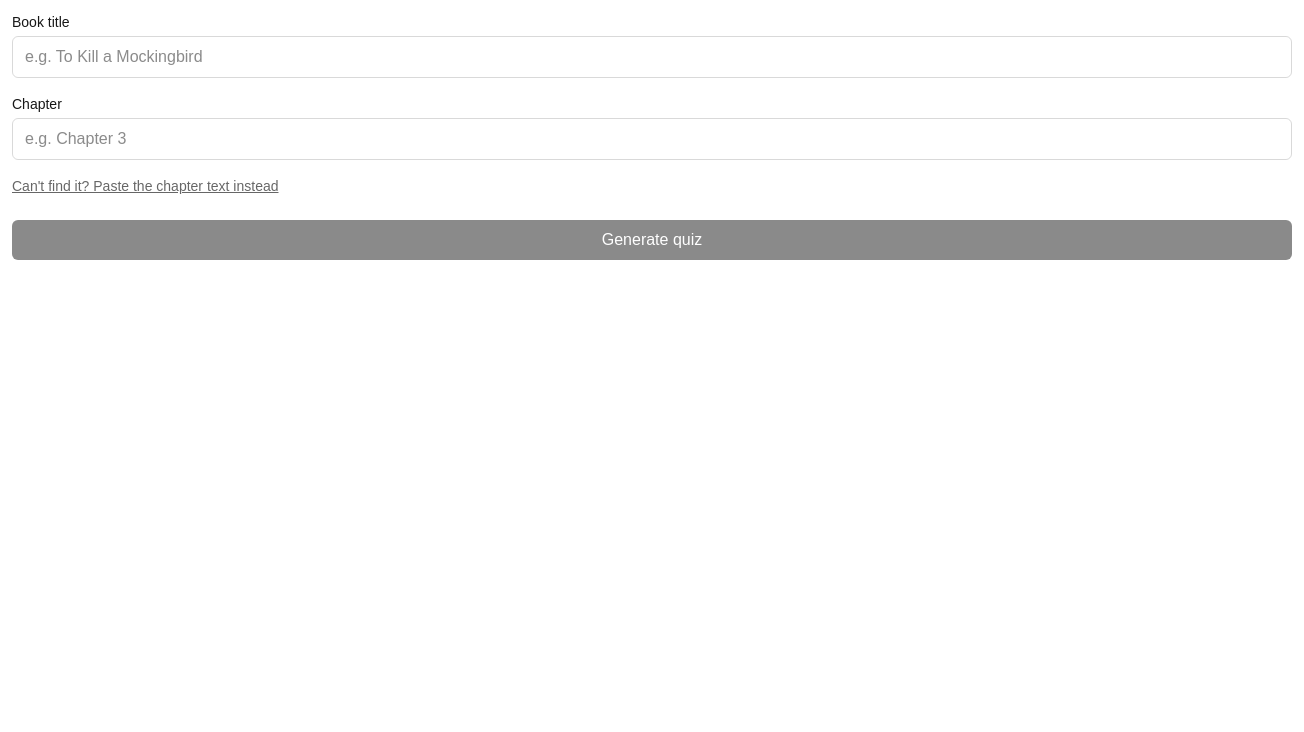
Test: QuizForm › hides the paste-text textarea until toggled
Click the button "Can't find it? Paste the chapter text instead" at (145, 186), box left=12, top=176, right=278, bottom=196
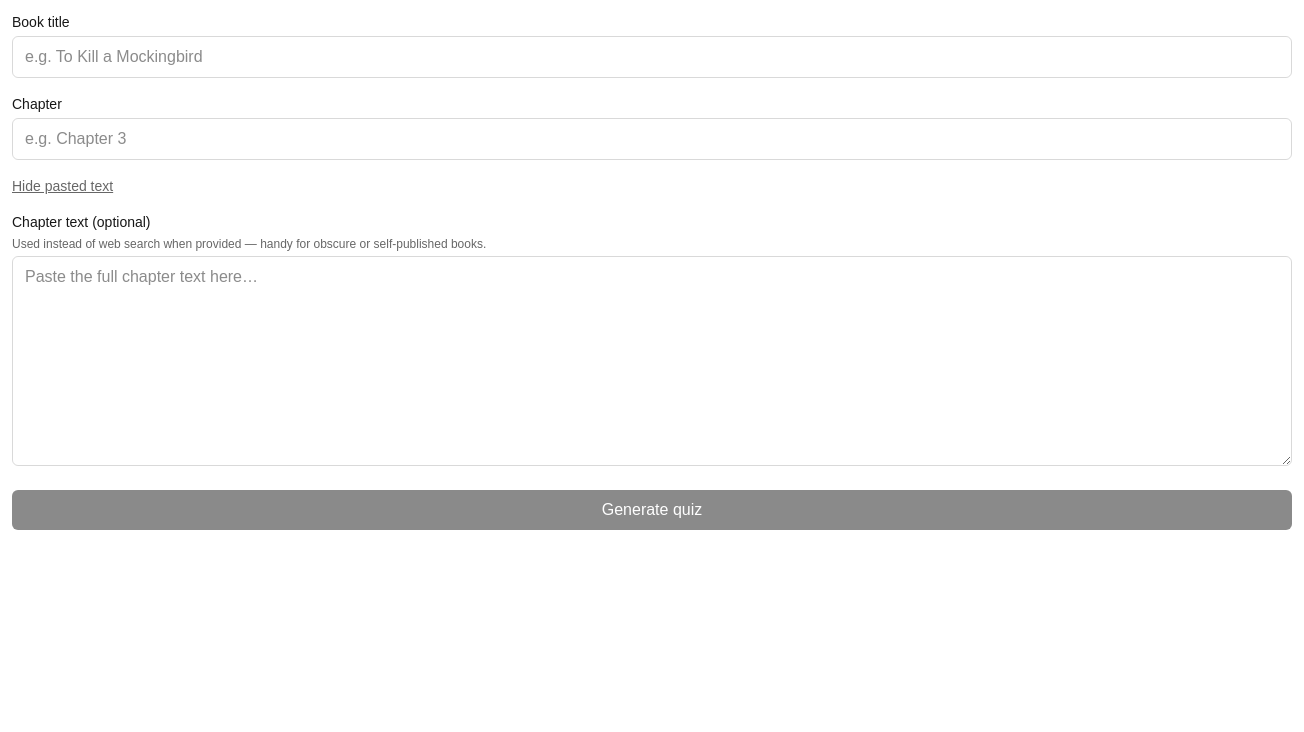
Expected: the text box labelled "Chapter text (optional)" is shown, left=12, top=256, right=1292, bottom=466
